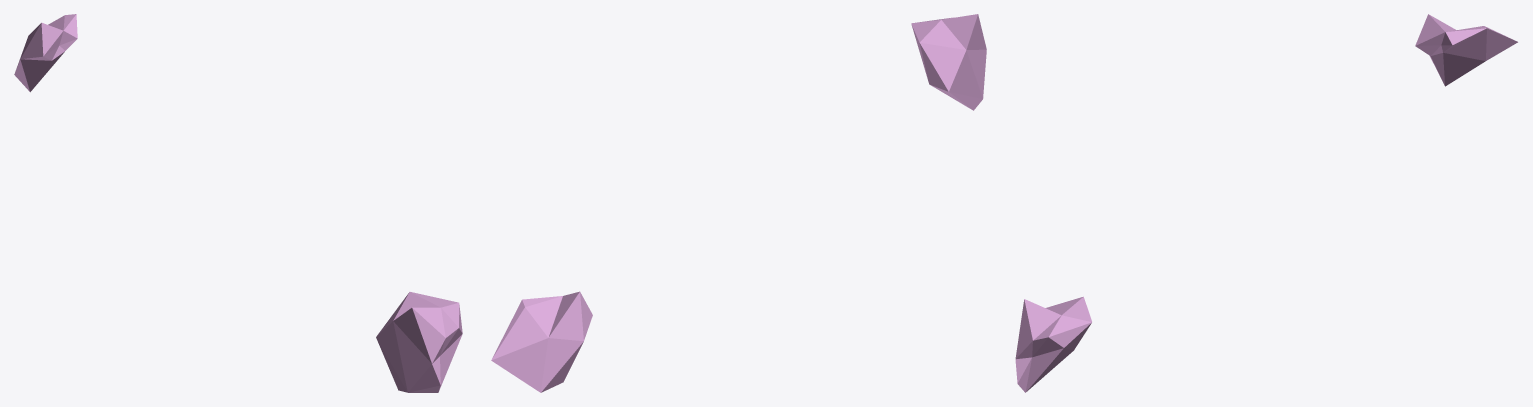
The picture shows the model from 3 angles, left to right: view 1: azimuth 30°, elevation 25°; view 2: azimuth 150°, elevation 25°; view 3: azimuth 330°, elevation 25°; orthographic projection. The views are drawn at different scales.
Visible parts, largest first — view 1: 115.obj; view 2: 115.obj; view 3: 115.obj.
Boxes of the visible parts, left/top/right/bottom form: 115.obj: left=14, top=14, right=462, bottom=392; 115.obj: left=491, top=14, right=986, bottom=392; 115.obj: left=1015, top=14, right=1517, bottom=392.
Bounding box in the file's own units: 48.41 × 65.76 × 588.
